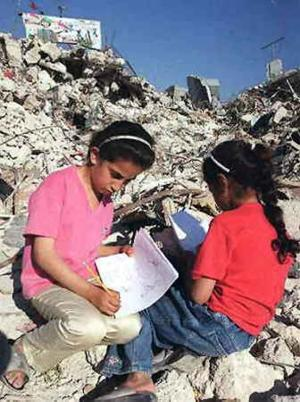person: (3, 120, 156, 390)
